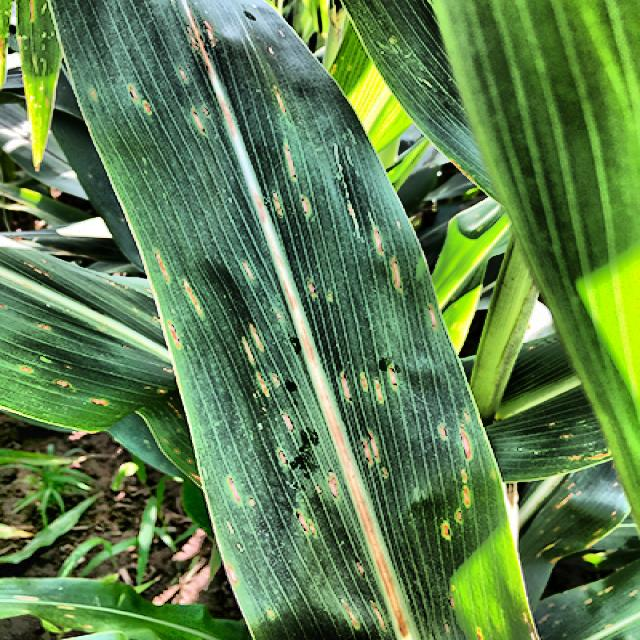gray_spot: (46, 0, 548, 639)
